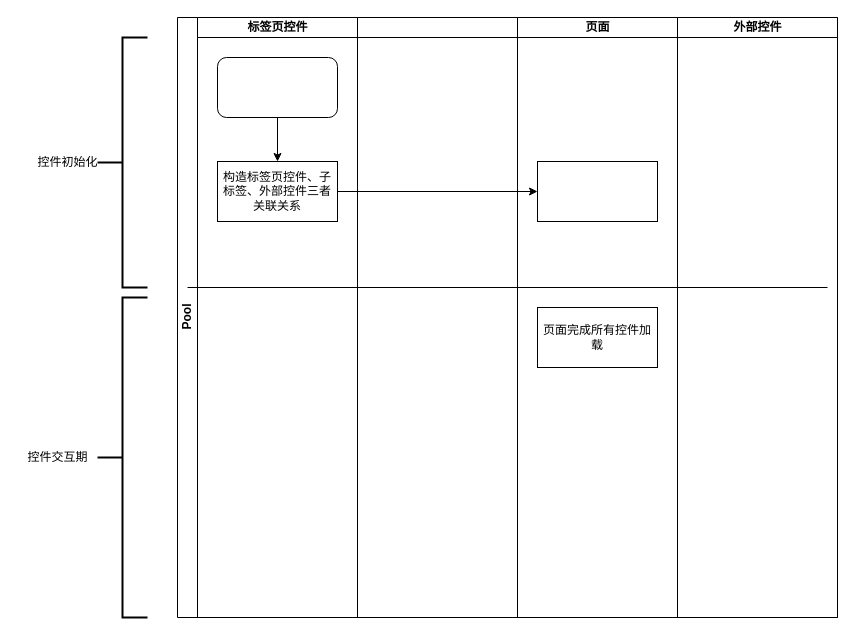
This 855x636 diagram has some shape labels left out. Each missing label, with the box of its shape:
子标签: (356, 16, 518, 618)
开始: (216, 56, 338, 118)
通过状态管理服务注册事件集合: (536, 160, 658, 222)
